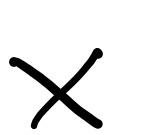mult: (7, 49, 104, 131)
